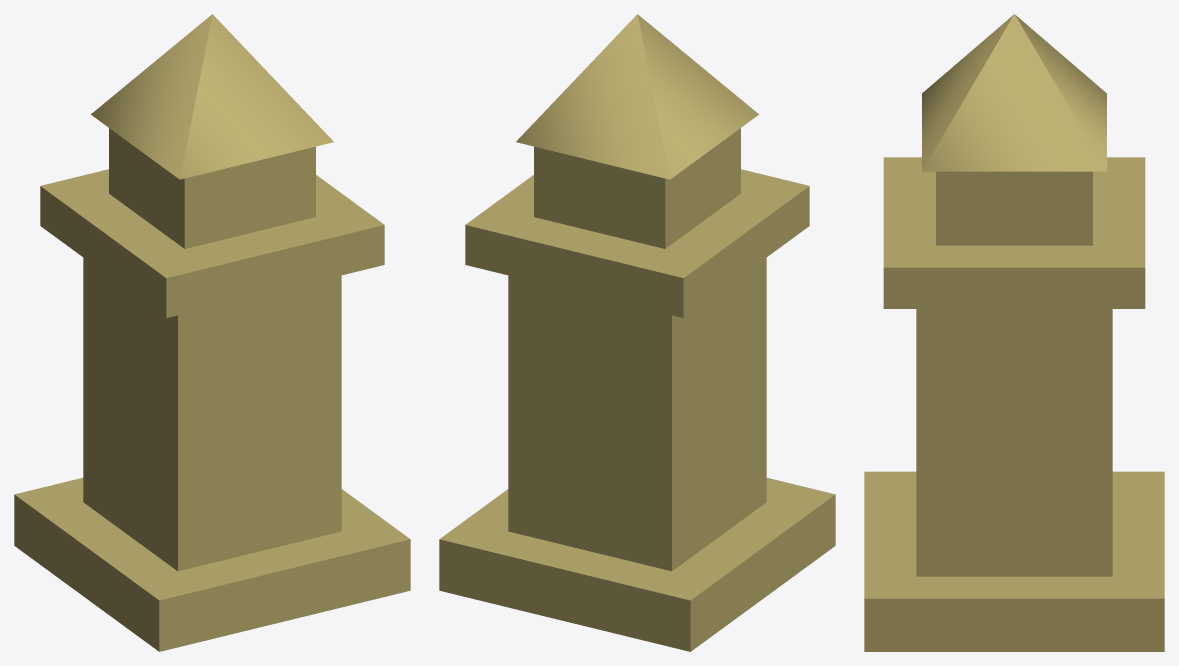
The model's file is sample-tower.glb.
3 views of the same model, side by side, from view 1: azimuth 30°, elevation 25°; view 2: azimuth 150°, elevation 25°; view 3: azimuth 270°, elevation 25° (orthographic). The views are drawn at different scales.
Size of the model in its own units: 0.46 by 0.97 by 0.46.
